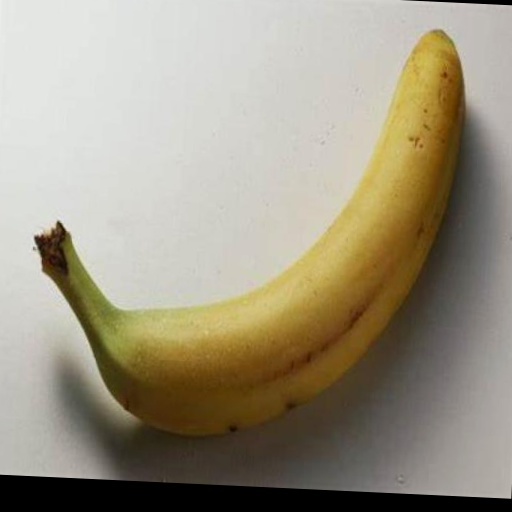fruit: (36, 31, 464, 434)
